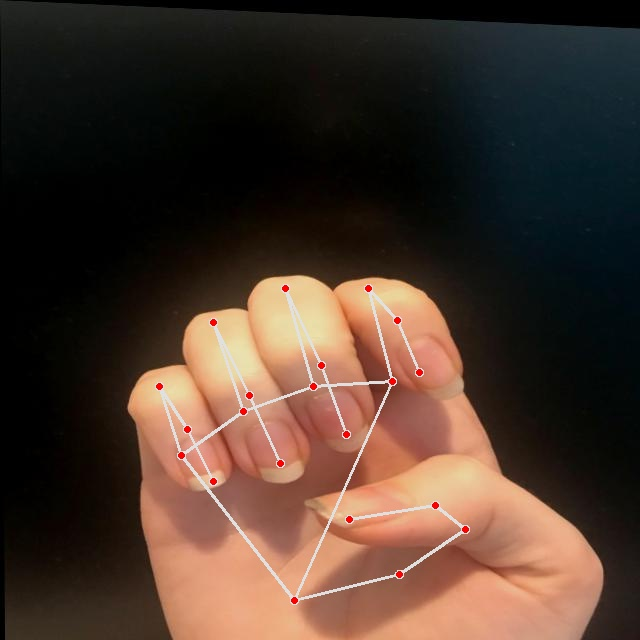E: (111, 257, 613, 639)
